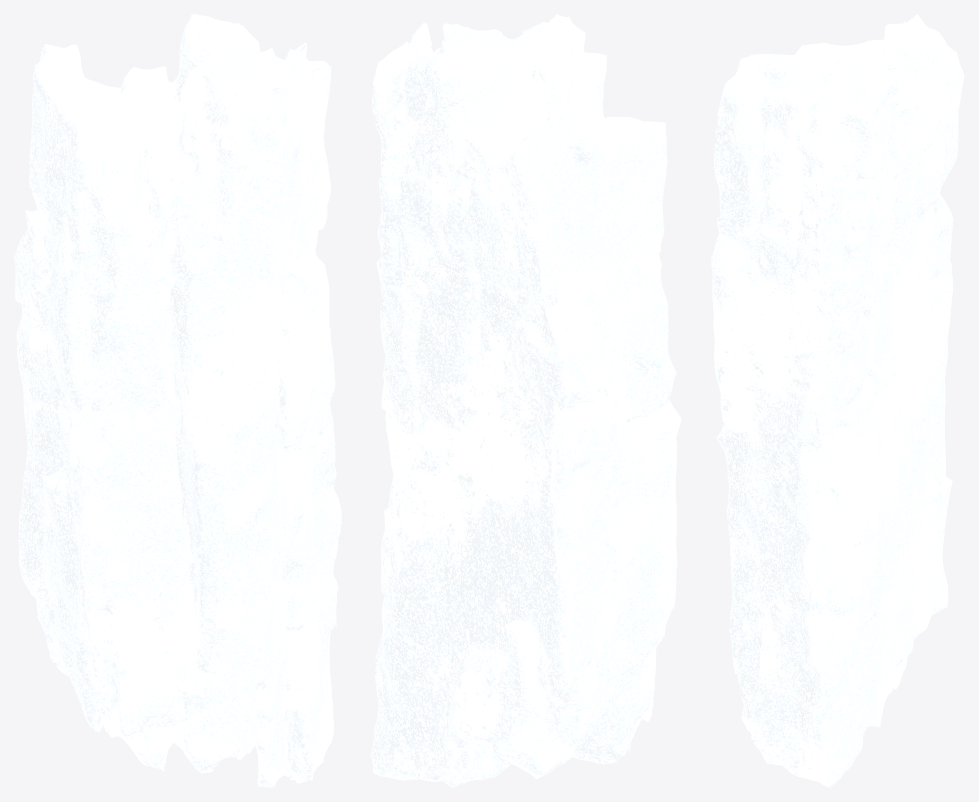
File: rock.glb
3 renders of one model, left to right at view 1: azimuth 30°, elevation 25°; view 2: azimuth 150°, elevation 25°; view 3: azimuth 270°, elevation 25°, orthographic. The views are drawn at different scales.
Visible parts, largest first — view 1: Rock; view 2: Rock; view 3: Rock.
Boxes of the visible parts, x1,y1,x2,y2 form: Rock: (14, 14, 341, 787); Rock: (370, 14, 681, 787); Rock: (710, 14, 964, 787).
Bounding box in the file's own units: 11.63 × 29.3 × 9.91.
1 material, 1 textured.
